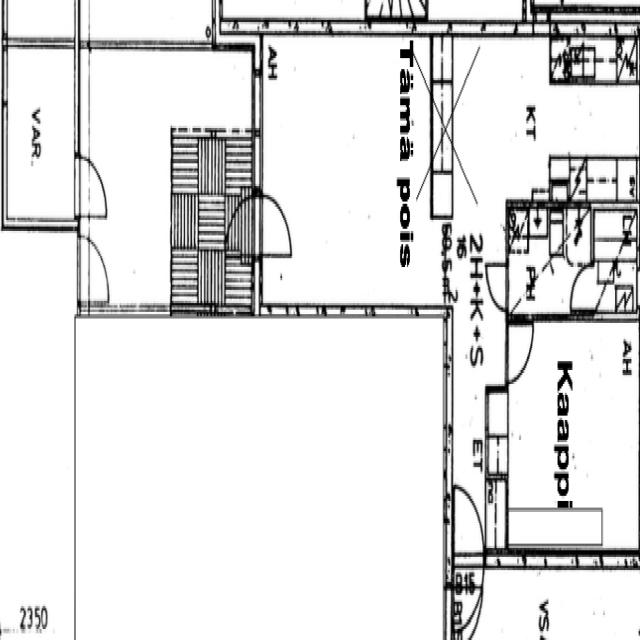door: (453, 481, 484, 572), (453, 551, 484, 640), (226, 194, 263, 256), (254, 194, 290, 256), (76, 239, 107, 302), (504, 323, 534, 382), (76, 158, 105, 216), (484, 263, 508, 308), (570, 264, 594, 309)
